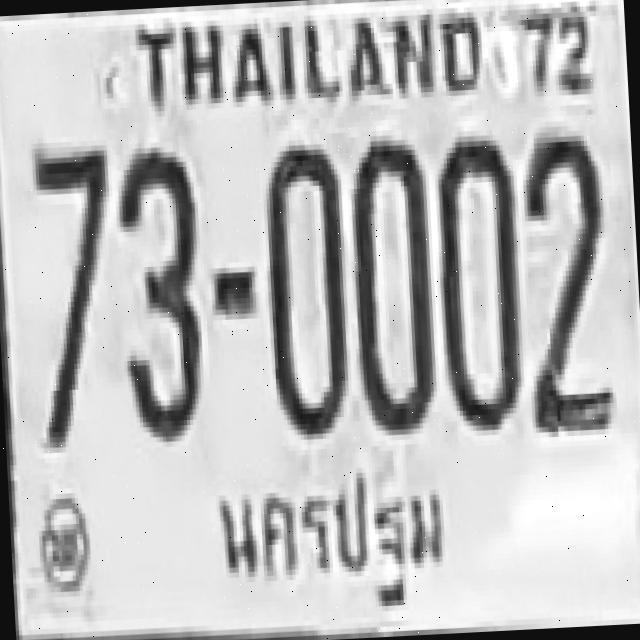0: (431, 129, 525, 427), (260, 138, 352, 436), (344, 134, 436, 432)
2: (516, 127, 614, 435)
3: (111, 141, 205, 439)
7: (30, 143, 118, 446)
NakhonPathom: (202, 448, 467, 640)
